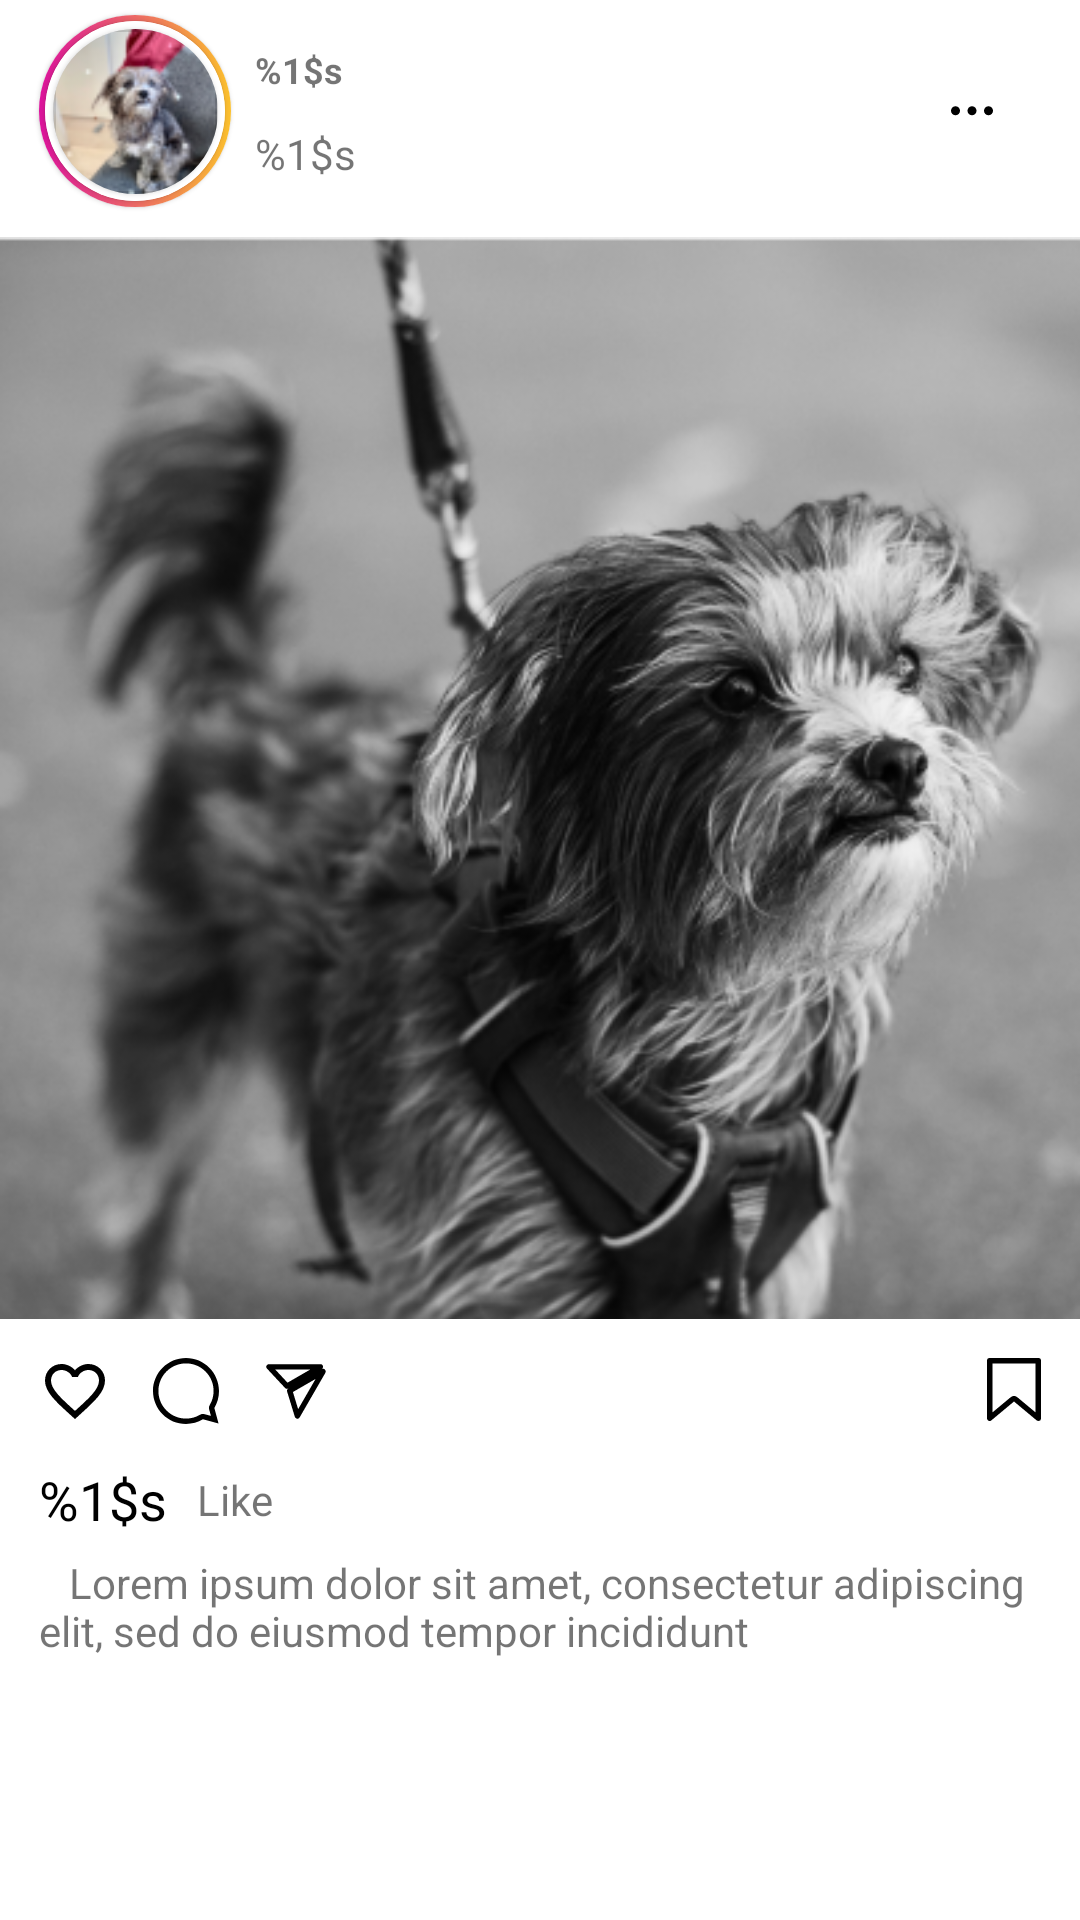

Named icons in this screenshot (1080 × 1920) and their bounding boxes, (x1, y1, x2, y2):
dog: (53, 29, 218, 194)
favorite border: (45, 1364, 105, 1419)
